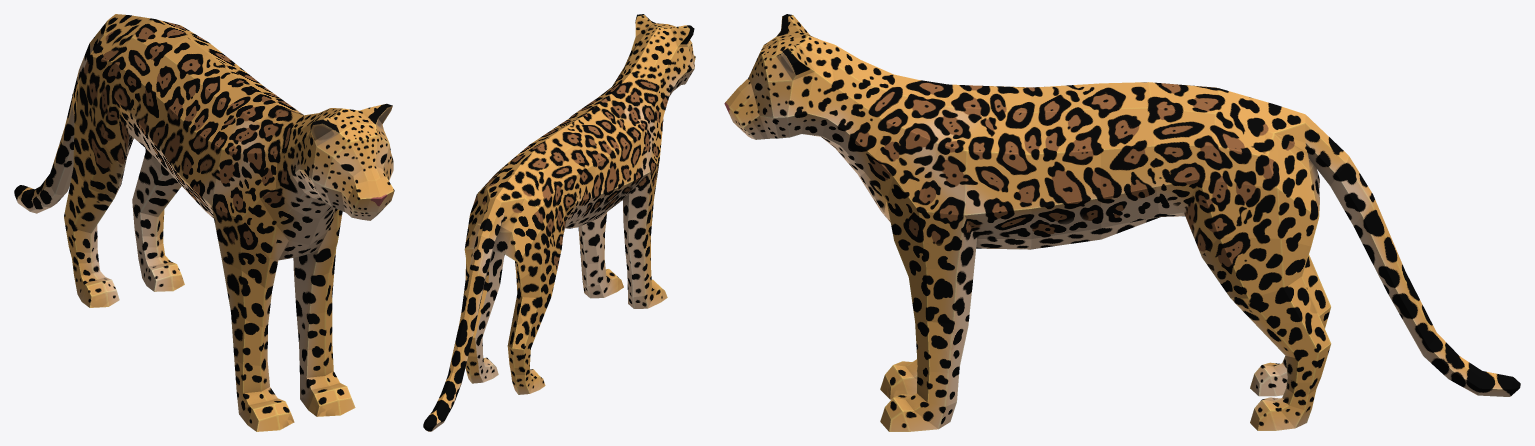
Rendered from jaguar.glb.
3 views of the same model, side by side, from view 1: azimuth 30°, elevation 25°; view 2: azimuth 150°, elevation 25°; view 3: azimuth 270°, elevation 25° (orthographic). The views are drawn at different scales.
Visible parts, largest first — view 1: Object_2; view 2: Object_2; view 3: Object_2.
Boxes of the visible parts, <box> form: Object_2: <box>14,14,394,431</box>; Object_2: <box>423,14,695,431</box>; Object_2: <box>724,14,1520,431</box>.
Size of the model in its own units: 2.51 by 6.84 by 13.22.
1 material, 1 textured.
